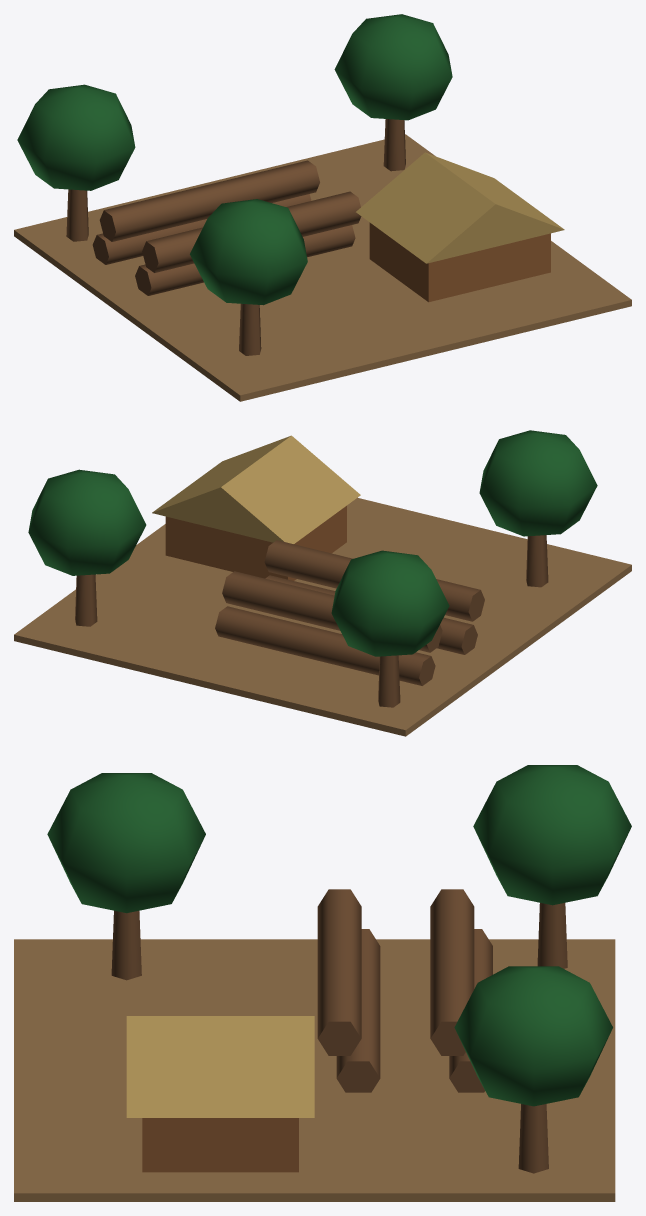
Rendered from building_pembalakan.glb.
3 renders of one model, top to bottom at view 1: azimuth 30°, elevation 25°; view 2: azimuth 150°, elevation 25°; view 3: azimuth 270°, elevation 25°, orthographic. The views are drawn at different scales.
Visible parts, largest first — view 1: building_pembalakan; view 2: building_pembalakan; view 3: building_pembalakan.
Part boxes in pixels (box(x1,y1,x2,y2)): building_pembalakan: box(14, 14, 631, 401); building_pembalakan: box(14, 430, 631, 736); building_pembalakan: box(14, 765, 631, 1201).
Size of the model in its own units: 1.01 by 0.364 by 0.9867.
